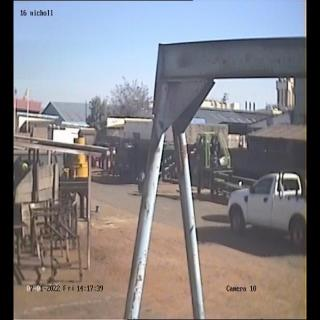car: (228, 169, 305, 251)
